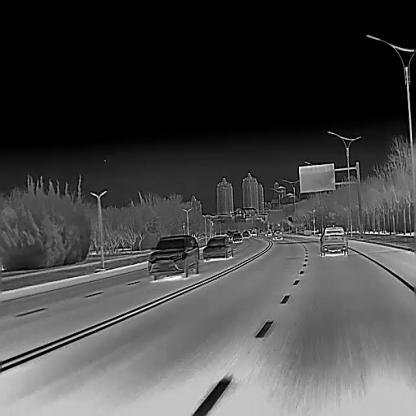car: (147, 234, 199, 281), (318, 223, 347, 256), (202, 234, 233, 260), (272, 228, 282, 240), (232, 232, 242, 242), (242, 230, 250, 238), (265, 228, 272, 237), (250, 230, 257, 236)
